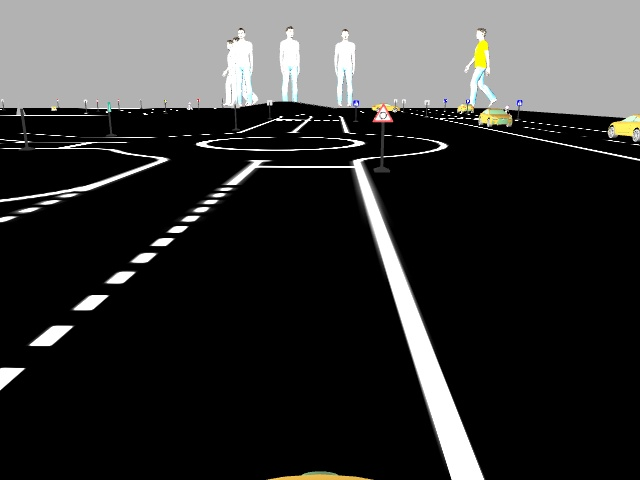Roundabout: (370, 103, 395, 125)
